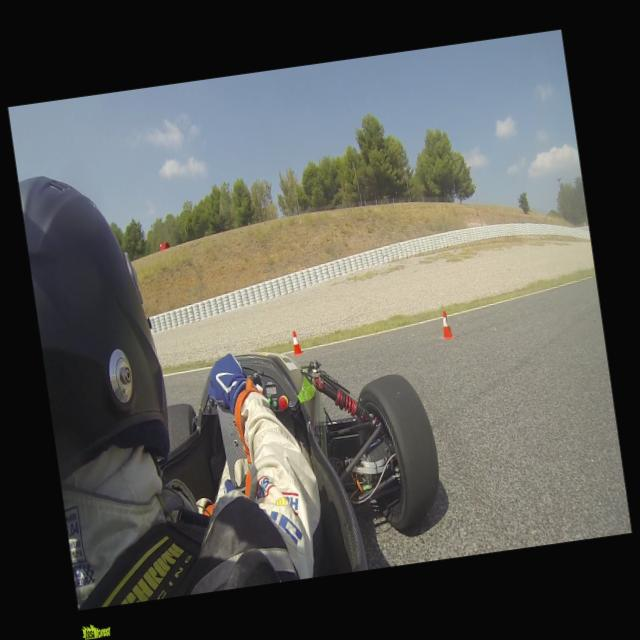orange_cone: (438, 310, 456, 340), (290, 330, 304, 356)
